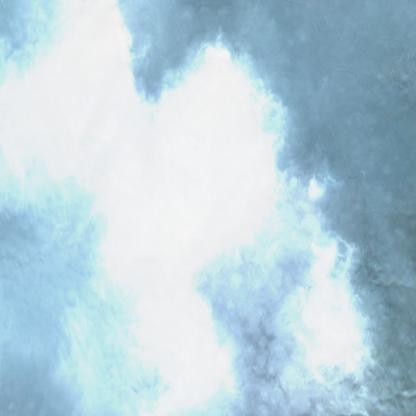fire: (75, 0, 293, 416)
